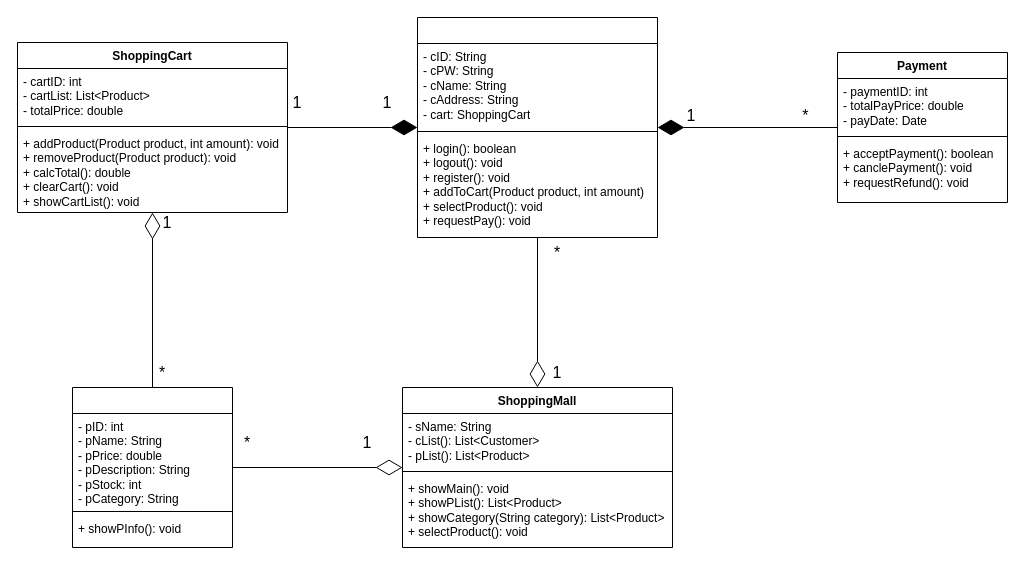
Image size: 1025x568. Some labels were removed from this diagram. The shapes that lost their labels are listed below. From the top down, each one's box as (x1, y1, x2, y2) in pixels, then its label:
(416, 16, 658, 238): Customer
(72, 386, 232, 548): Product
